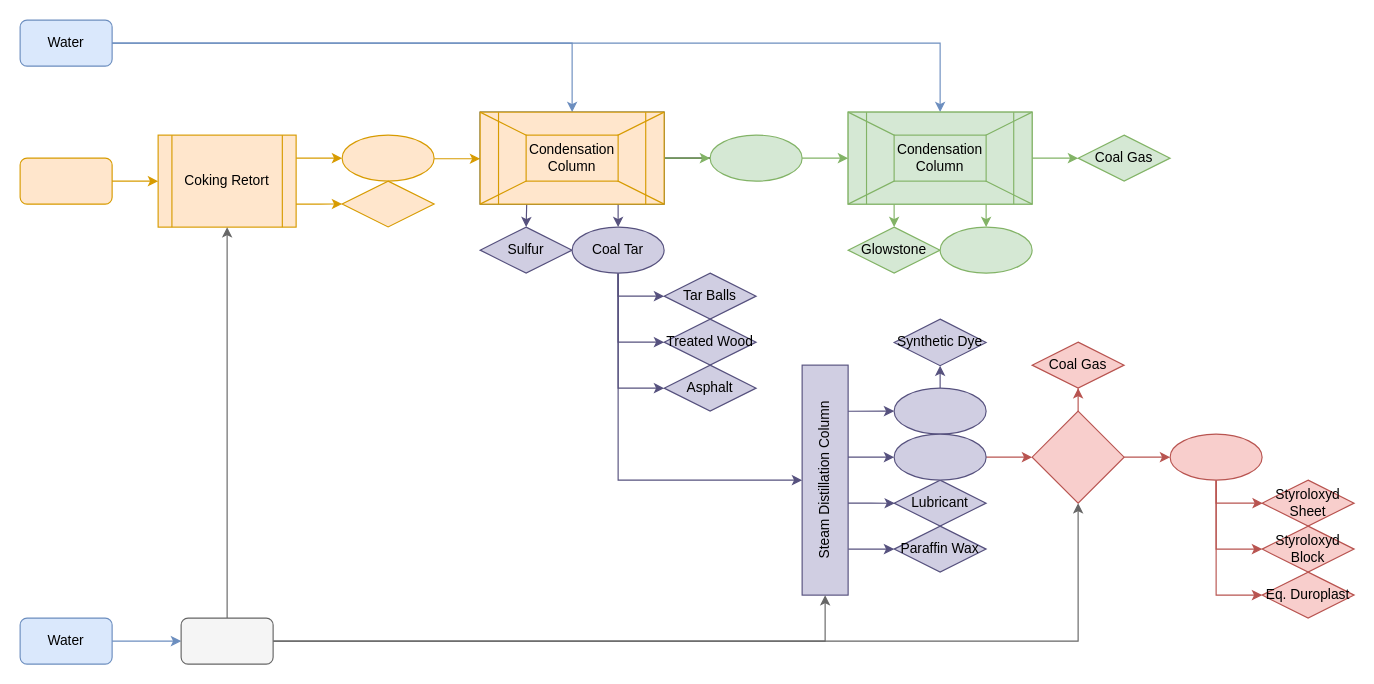
Some shapes in this 1374 by 684 pixel diagram are drawn without their labels. Here are the shapes that lost their labels. From the top down, the centre of each, then its label:
At point (387, 157): "Tar Gas".
At point (755, 157): "Retort Gas".
At point (65, 180): "Coal".
At point (387, 203): "Coal Coke".
At point (985, 249): "Ammonical Liqour".
At point (939, 410): "Aniline".
At point (939, 456): "Coal Oil".
At point (1077, 456): "PRU".
At point (1215, 456): "Raw Styroloxyd".
At point (226, 640): "Process Steam".
